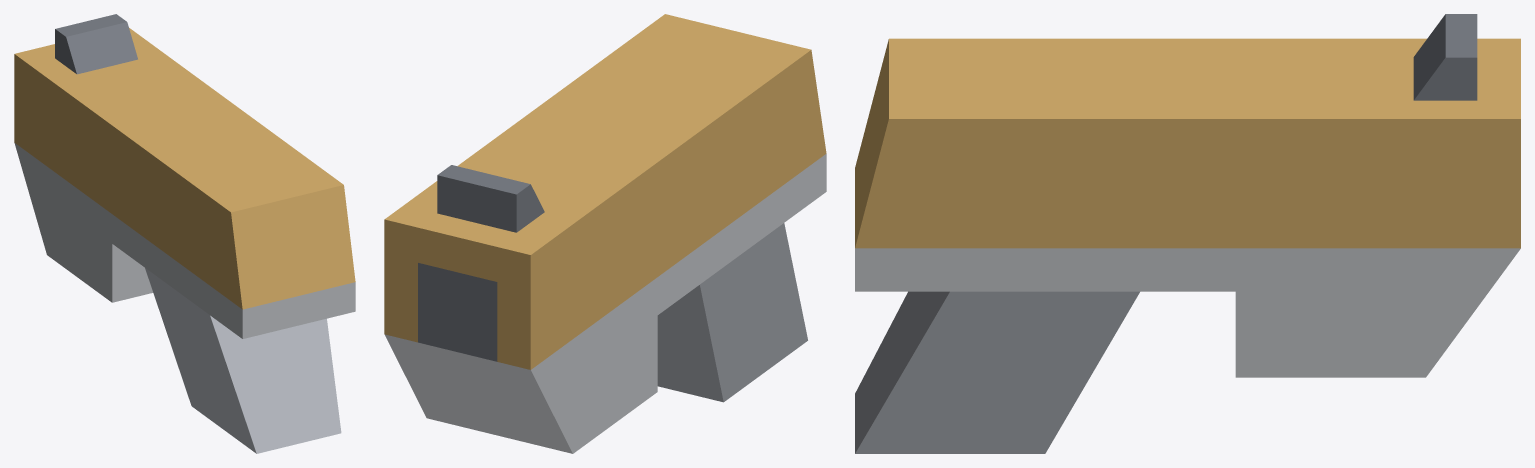
The model's file is weapon_gun.glb.
The picture shows the model from 3 angles, left to right: view 1: azimuth 30°, elevation 25°; view 2: azimuth 150°, elevation 25°; view 3: azimuth 270°, elevation 25°; orthographic projection. The views are drawn at different scales.
Visible parts, largest first — view 1: weapon_gun; view 2: weapon_gun; view 3: weapon_gun.
Part boxes in pixels (x1,y1,x2,y2): weapon_gun: (14,14,355,453); weapon_gun: (384,14,826,453); weapon_gun: (855,14,1520,453).
Bounding box in the file's own units: 0.1 × 0.225 × 0.35.
